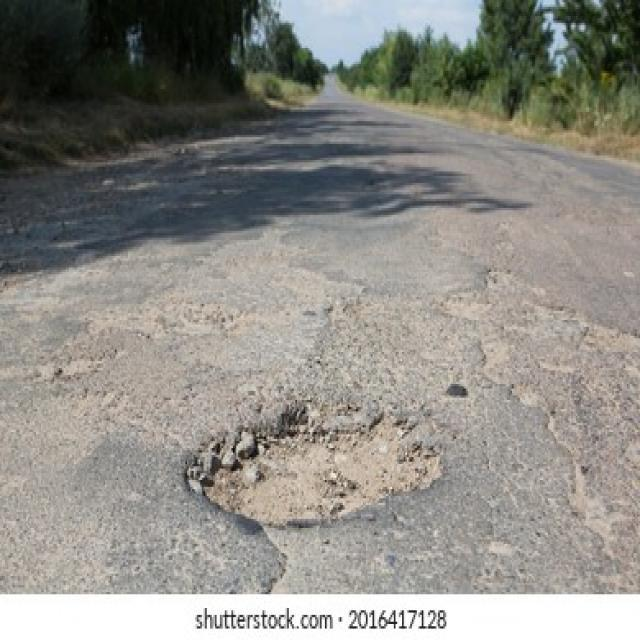Pothole: (182, 398, 448, 530)
